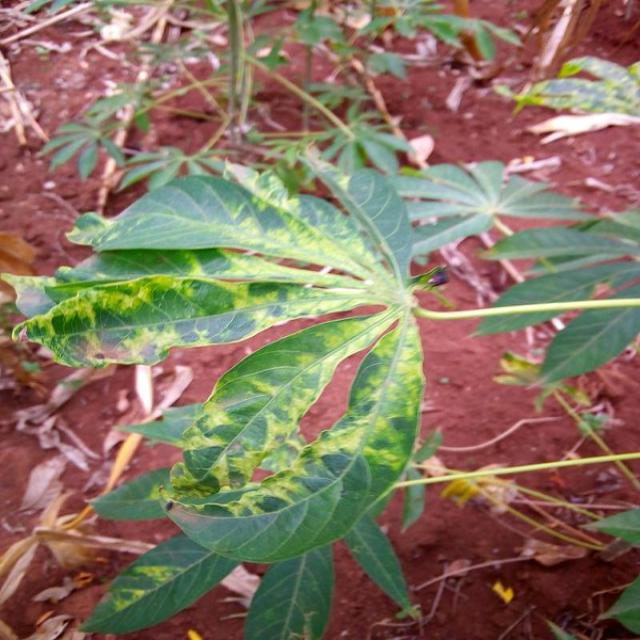cassava leaf: (4, 149, 639, 637), (160, 305, 427, 565)
